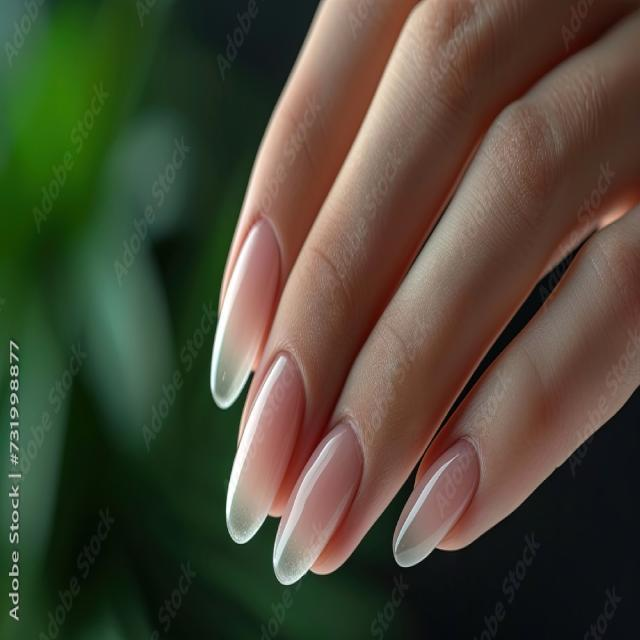Fingernail: (274, 420, 366, 584), (224, 354, 304, 542), (209, 218, 281, 406), (392, 442, 479, 568)
